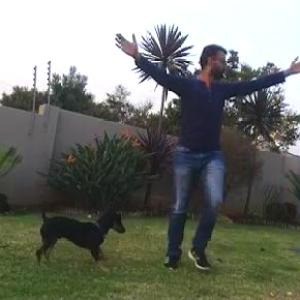takeoff: (115, 34, 299, 272)
